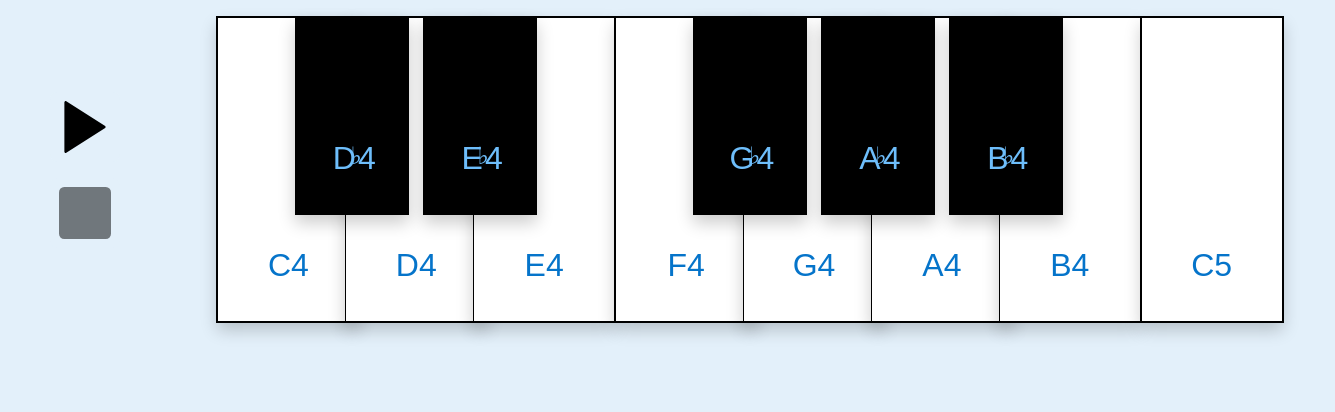
Test: Selected Keyboard › renders NotesDisplay when lastPlayedNotes has values
The width and height of the screenshot is (1335, 412).
// add values to lastPlayNotes by playing initial notes
Click the button named "Play the scale". click: (85, 127)
box: [50,92,120,162]
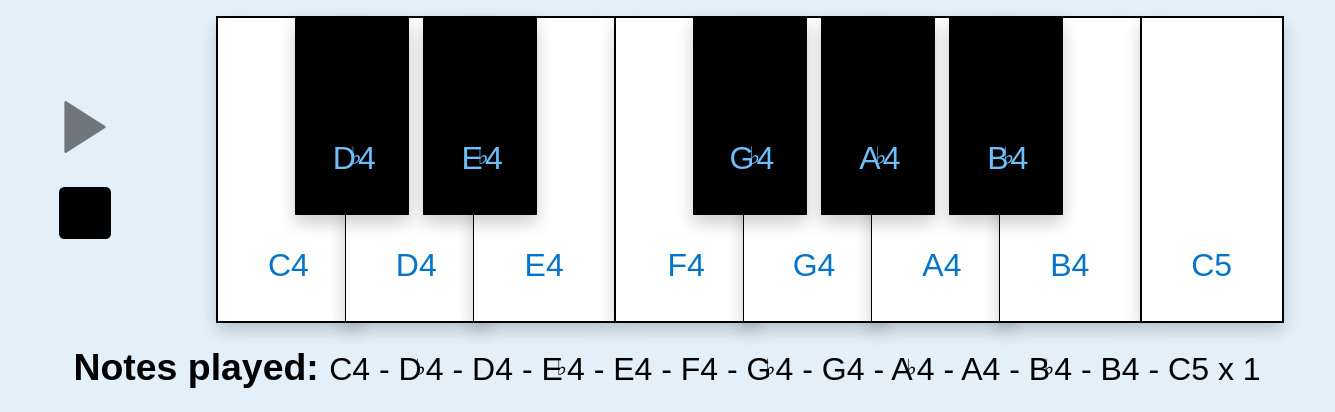
Check: the element "Notes played:" is shown, box [16,339,1318,395]
